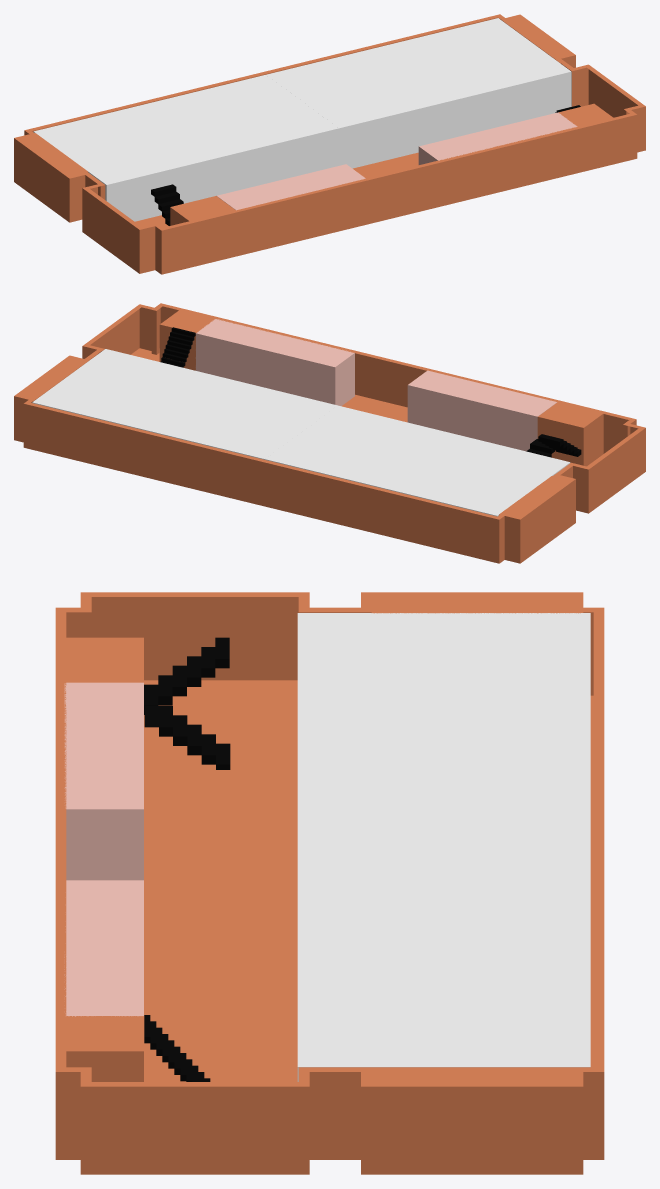
3 renders of one model, top to bottom at view 1: azimuth 30°, elevation 25°; view 2: azimuth 150°, elevation 25°; view 3: azimuth 270°, elevation 25°, orthographic. The views are drawn at different scales.
Parts seen in each view (by area): view 1: object, 701, 702, 女子トイレ_7_B1_1, 男子トイレ_7_B1_1, ホール_7_B1_1, 階段_7_B1_1; view 2: object, 702, 701, 女子トイレ_7_B1_1, 男子トイレ_7_B1_1, 階段_7_B1_2, ホール_7_B1_1, 階段_7_B1_1; view 3: object, 701, 702, ホール_7_B1_1, 男子トイレ_7_B1_1, 女子トイレ_7_B1_1, 階段_7_B1_1, 階段_7_B1_2.
Part boxes in pixels (<box>): object: <box>14,14,645,274</box>; 701: <box>266,18,571,168</box>; 702: <box>33,75,338,221</box>; 女子トイレ_7_B1_1: <box>418,112,577,164</box>; 男子トイレ_7_B1_1: <box>216,164,365,210</box>; ホール_7_B1_1: <box>135,152,418,227</box>; 階段_7_B1_1: <box>151,184,183,225</box>; object: <box>14,303,645,563</box>; 702: <box>264,405,570,516</box>; 701: <box>32,349,337,459</box>; 女子トイレ_7_B1_1: <box>195,319,354,406</box>; 男子トイレ_7_B1_1: <box>407,370,556,451</box>; 階段_7_B1_2: <box>160,327,195,367</box>; ホール_7_B1_1: <box>342,396,407,422</box>; 階段_7_B1_1: <box>526,434,581,457</box>; object: <box>55,592,604,1174</box>; 701: <box>297,840,590,1081</box>; 702: <box>297,613,590,839</box>; ホール_7_B1_1: <box>144,724,297,1081</box>; 男子トイレ_7_B1_1: <box>64,682,143,880</box>; 女子トイレ_7_B1_1: <box>64,880,143,1016</box>; 階段_7_B1_1: <box>144,637,230,769</box>; 階段_7_B1_2: <box>144,1015,210,1081</box>.
Bounding box in the file's own units: 1.97 × 0.1784 × 0.9257.
